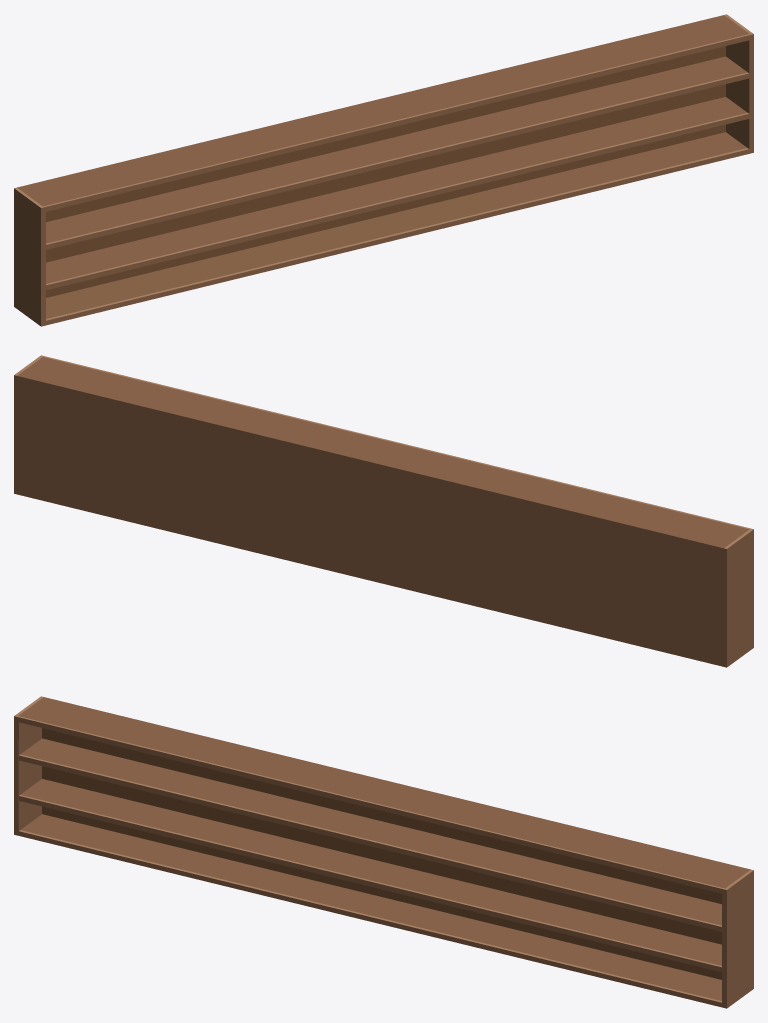
File: Repisa-1.FBX
The picture shows the model from 3 angles, top to bottom: view 1: azimuth 30°, elevation 25°; view 2: azimuth 150°, elevation 25°; view 3: azimuth 330°, elevation 25°; orthographic projection.
Parts seen in each view (by area): view 1: Bliblioteca001; view 2: Bliblioteca001; view 3: Bliblioteca001.
Boxes of the visible parts, box(x1,y1,x2,y2) form: Bliblioteca001: box(14, 14, 753, 326); Bliblioteca001: box(14, 355, 753, 667); Bliblioteca001: box(14, 696, 753, 1008).
Bounding box in the file's own units: 683 × 45 × 109.
